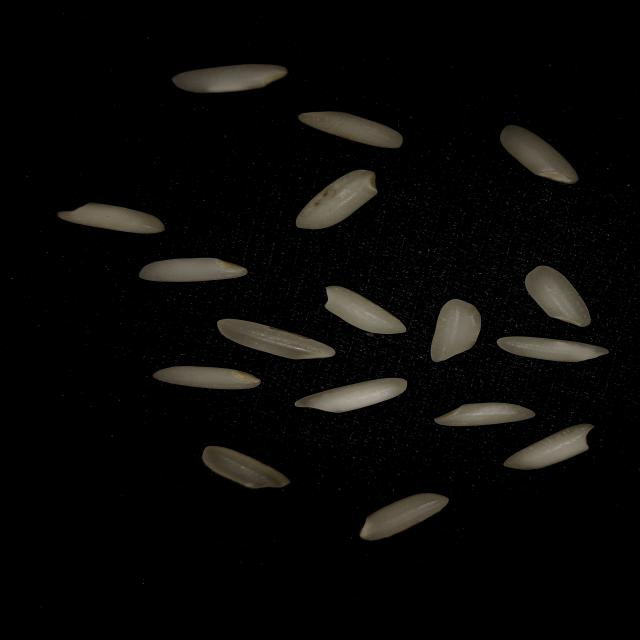Full: (295, 170, 378, 230), (217, 318, 335, 360), (499, 124, 579, 184), (360, 492, 449, 541), (503, 424, 595, 470), (298, 111, 404, 149), (201, 446, 292, 490), (324, 286, 407, 334), (525, 266, 591, 326), (295, 378, 407, 413), (57, 202, 165, 234), (173, 64, 288, 93), (431, 299, 481, 362), (497, 337, 609, 362), (139, 257, 247, 282), (434, 402, 536, 427), (153, 366, 261, 389)
